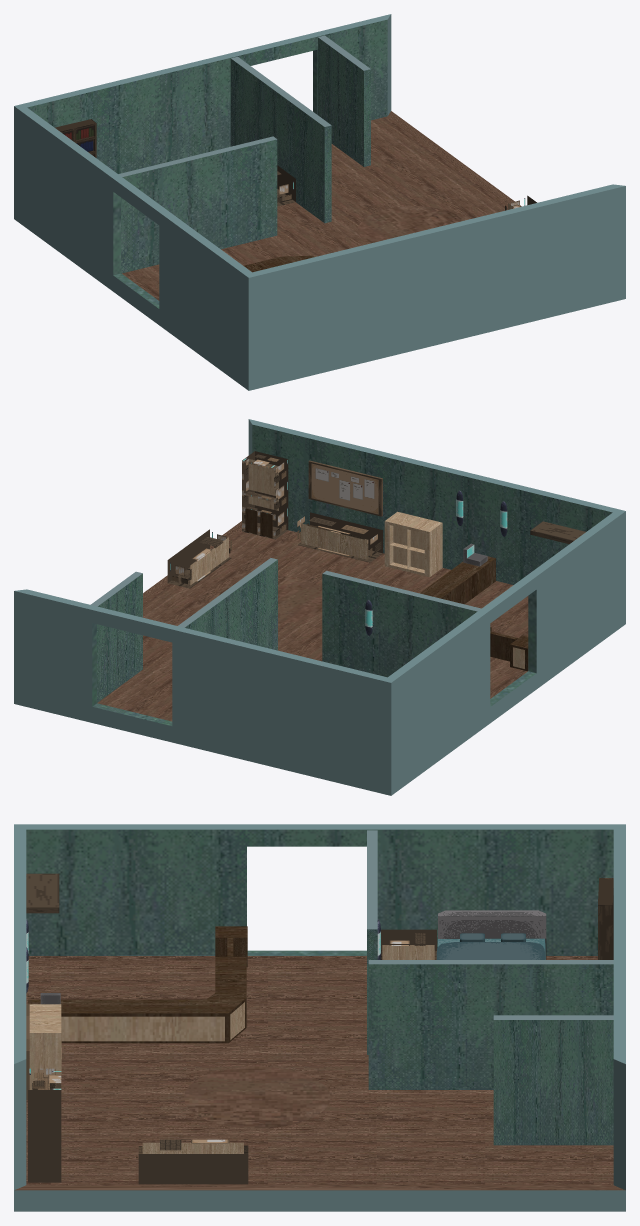
Rendered from 1F No wall.fbx.
3 views of the same model, one above another, from view 1: azimuth 30°, elevation 25°; view 2: azimuth 150°, elevation 25°; view 3: azimuth 270°, elevation 25° (orthographic). The views are drawn at different scales.
Parts seen in each view (by area): view 1: Cube.095, Cube.092, Cube.093, Cube.094, Circle.002, Cube.087, Cube.090; view 2: Cube.095, Cube.092, Cube.093, Cube.094, Cube.079, Cube.083, Cube.078, Cube.084, Cube.075, Cube.088, Circle.002, Cube.081 (+1 smaller); view 3: Cube.095, Cube.093, Cube.094, Cube.075, Circle.002, Cube.088, Cube.079, Cube.086, Cube.085, Cube.083, Cube.089, Cube.092 (+2 smaller).
Boxes of the visible parts, x1=… form: Cube.095: x1=14, y1=14, x2=625, y2=390; Cube.092: x1=118, y1=136, x2=277, y2=273; Cube.093: x1=230, y1=56, x2=331, y2=223; Cube.094: x1=318, y1=35, x2=370, y2=166; Circle.002: x1=358, y1=206, x2=464, y2=243; Cube.087: x1=55, y1=119, x2=96, y2=157; Cube.090: x1=277, y1=165, x2=295, y2=206; Cube.095: x1=14, y1=419, x2=625, y2=795; Cube.092: x1=322, y1=570, x2=481, y2=677; Cube.093: x1=178, y1=558, x2=277, y2=650; Cube.094: x1=90, y1=571, x2=142, y2=702; Cube.079: x1=242, y1=451, x2=288, y2=539; Cube.083: x1=384, y1=511, x2=442, y2=577; Cube.078: x1=308, y1=460, x2=382, y2=516; Cube.084: x1=297, y1=512, x2=382, y2=562; Cube.075: x1=420, y1=556, x2=528, y2=671; Cube.088: x1=167, y1=529, x2=231, y2=588; Circle.002: x1=219, y1=576, x2=322, y2=623; Cube.081: x1=530, y1=521, x2=585, y2=544; Cube.095: x1=14, y1=824, x2=625, y2=1211; Cube.093: x1=368, y1=960, x2=613, y2=1089; Cube.094: x1=493, y1=1015, x2=613, y2=1145; Cube.075: x1=28, y1=926, x2=247, y2=1043; Circle.002: x1=184, y1=1066, x2=330, y2=1128; Cube.088: x1=138, y1=1139, x2=248, y2=1184; Cube.079: x1=28, y1=1068, x2=61, y2=1182; Cube.086: x1=438, y1=910, x2=546, y2=959; Cube.085: x1=436, y1=933, x2=544, y2=959; Cube.083: x1=29, y1=1004, x2=61, y2=1089; Cube.089: x1=380, y1=929, x2=436, y2=959; Cube.092: x1=367, y1=830, x2=377, y2=1054.
Size of the model in its own units: 404 by 116 by 436.
47 materials, 33 textured.
